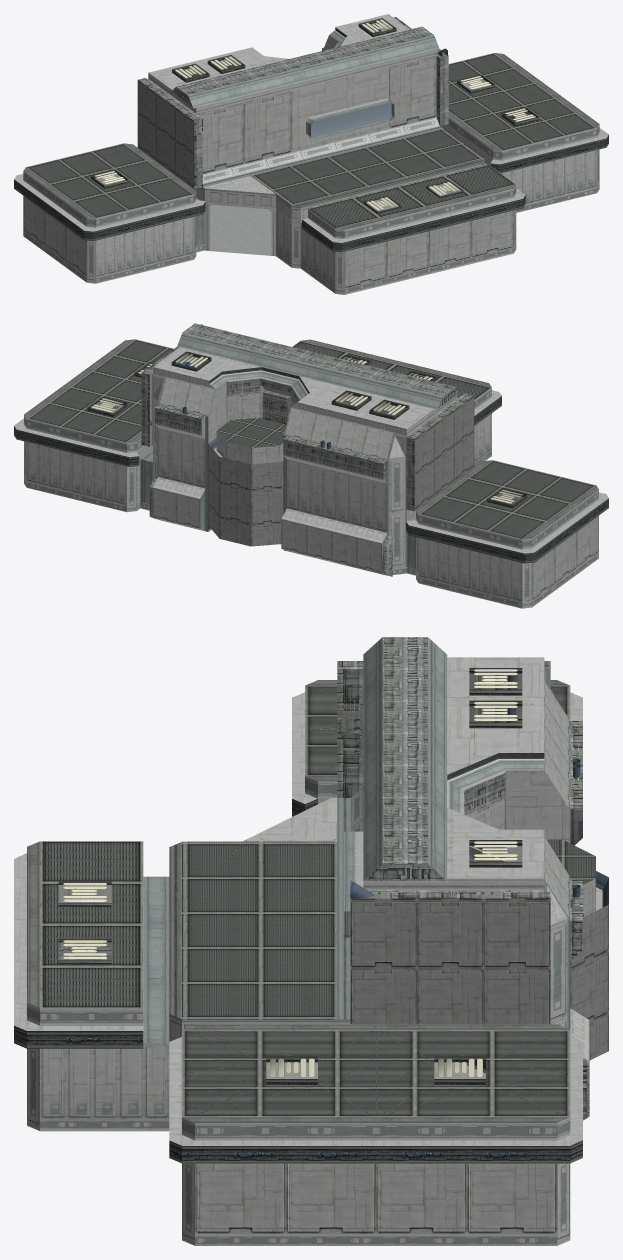
File: mun_all_cloning_s01_r4_spawn_mesh.fbx
The picture shows the model from 3 angles, top to bottom: view 1: azimuth 30°, elevation 25°; view 2: azimuth 150°, elevation 25°; view 3: azimuth 270°, elevation 25°; orthographic projection. The views are drawn at different scales.
Parts seen in each view (by area): view 1: mesh_node; view 2: mesh_node; view 3: mesh_node.
Boxes of the visible parts, x1,y1,x2,y2 form: mesh_node: [14, 14, 608, 294]; mesh_node: [14, 323, 608, 608]; mesh_node: [14, 637, 608, 1245].
Bounding box in the file's own units: 41.5 × 11.75 × 23.
